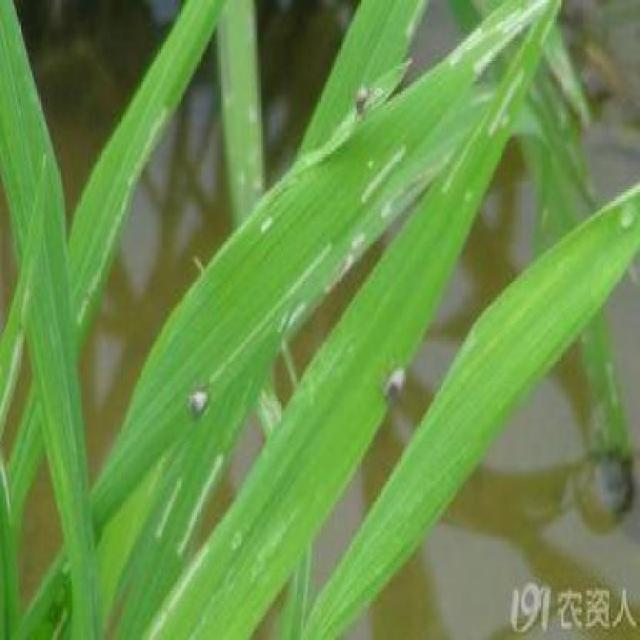rice-bug: (381, 358, 408, 402), (189, 382, 213, 418), (355, 86, 370, 120)
